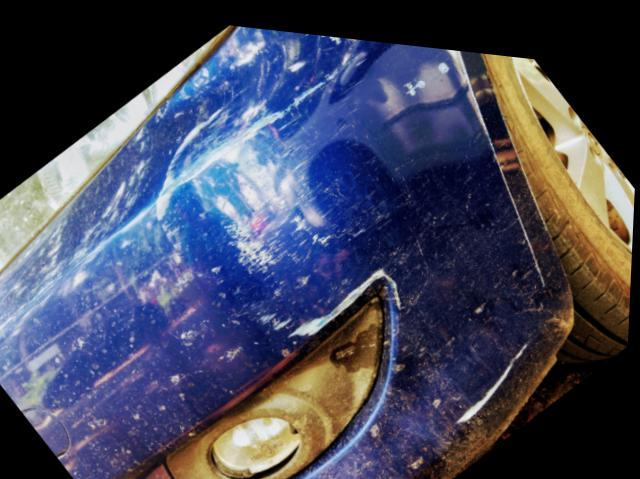scratch: (152, 82, 408, 336), (454, 327, 538, 417)
